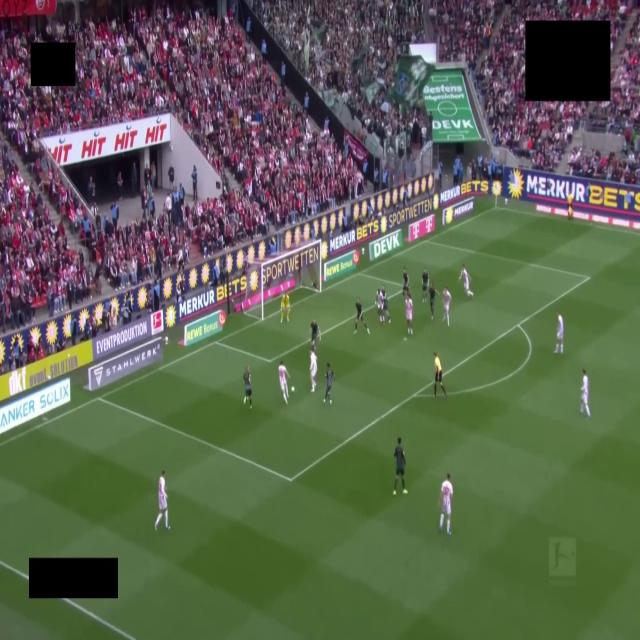ball: (292, 387, 294, 391)
player: (155, 471, 169, 530), (393, 437, 407, 495), (439, 474, 452, 535), (354, 298, 369, 334), (580, 369, 590, 417), (459, 264, 473, 297), (323, 363, 334, 404), (279, 361, 289, 404), (243, 365, 252, 408), (428, 282, 437, 320), (442, 288, 451, 326), (381, 286, 390, 323), (555, 312, 563, 353), (310, 346, 317, 392), (405, 293, 412, 335), (281, 293, 290, 323), (422, 268, 429, 303), (376, 289, 383, 323), (311, 320, 320, 346), (402, 268, 409, 295)
referee: (434, 352, 446, 397)
